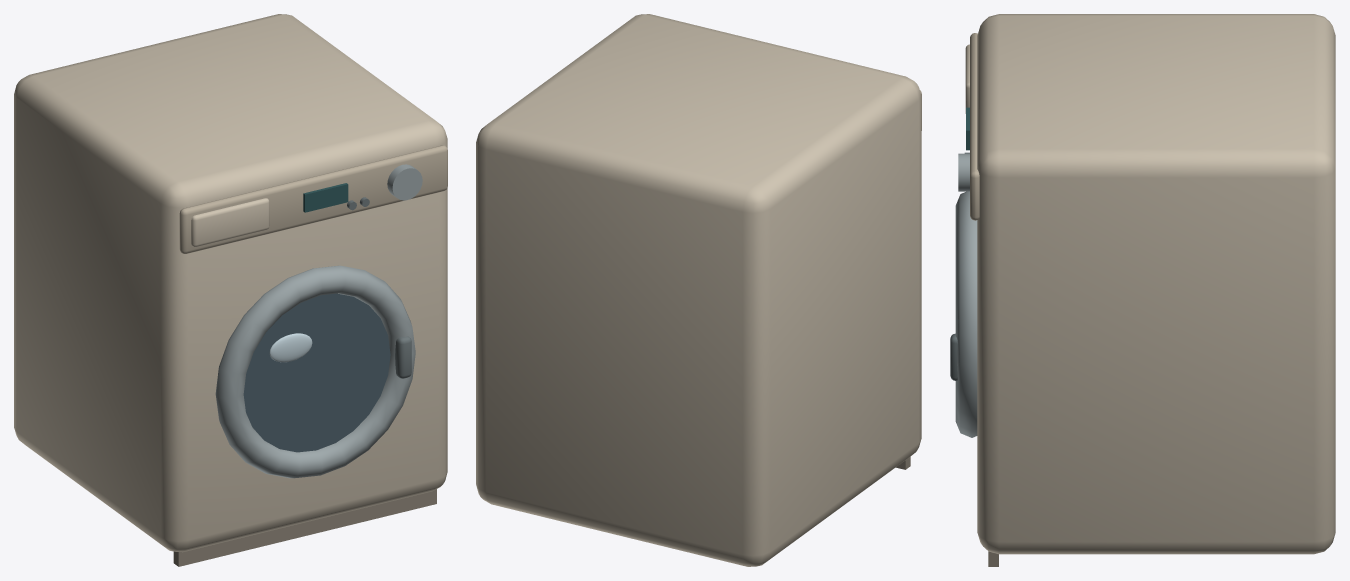
The model's file is washer.glb.
3 views of the same model, side by side, from view 1: azimuth 30°, elevation 25°; view 2: azimuth 150°, elevation 25°; view 3: azimuth 270°, elevation 25° (orthographic). The views are drawn at different scales.
Parts seen in each view (by area): view 1: washer_body, washer_door_glass, washer_door_ring, washer_strip, washer_kick, washer_drawer, washer_knob, washer_glass_shine, washer_display, washer_door_handle; view 2: washer_body; view 3: washer_body, washer_door_ring, washer_strip.
Boxes of the visible parts, x1,y1,x2,y2 form: washer_body: (14,14,447,552); washer_door_glass: (243,293,390,452); washer_door_ring: (215,265,415,478); washer_strip: (179,145,447,253); washer_kick: (173,489,436,566); washer_drawer: (191,198,269,247); washer_knob: (387,164,422,200); washer_glass_shine: (269,333,312,362); washer_display: (303,183,348,212); washer_door_handle: (395,336,411,378); washer_body: (476,14,921,566); washer_body: (977,14,1335,554); washer_door_ring: (955,191,977,437); washer_strip: (970,33,979,220).
Size of the model in its own units: 0.66 by 0.845 by 0.71.
